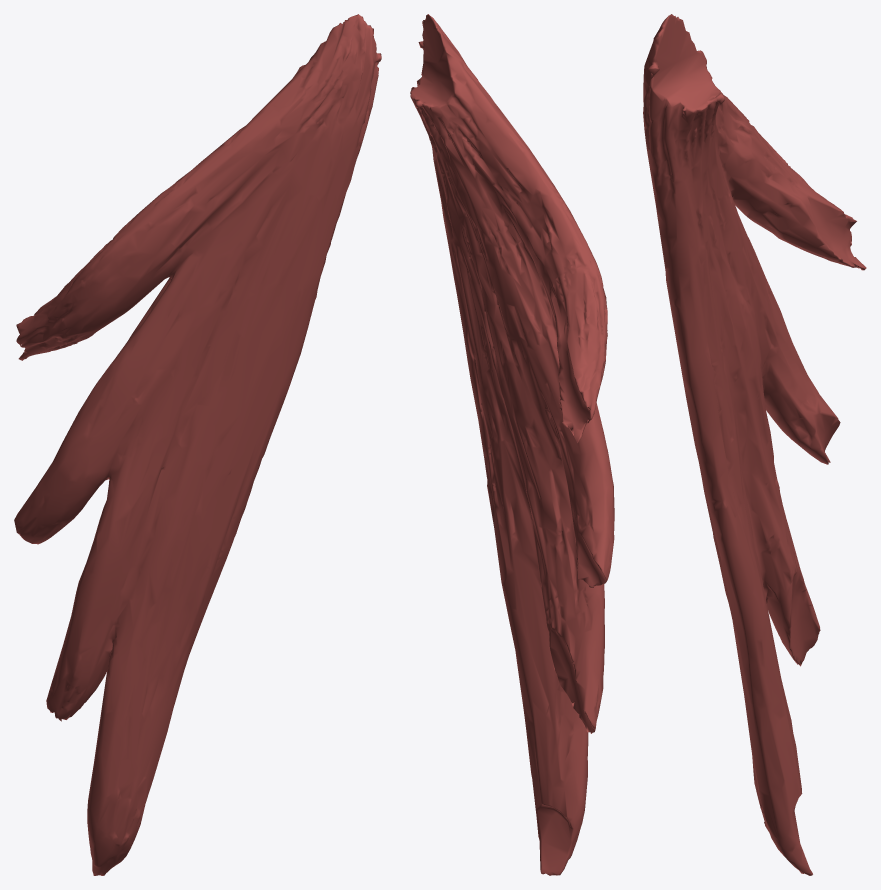
Rendered from FMA46283.glb.
3 renders of one model, left to right at view 1: azimuth 30°, elevation 25°; view 2: azimuth 150°, elevation 25°; view 3: azimuth 270°, elevation 25°, orthographic. The views are drawn at different scales.
Visible parts, largest first — view 1: FMA46283; view 2: FMA46283; view 3: FMA46283.
Boxes of the visible parts, x1=… form: FMA46283: x1=14, y1=14, x2=381, y2=875; FMA46283: x1=410, y1=14, x2=614, y2=875; FMA46283: x1=643, y1=14, x2=866, y2=875.
Bounding box in the file's own units: 0.0225 × 0.0644 × 0.0135.
